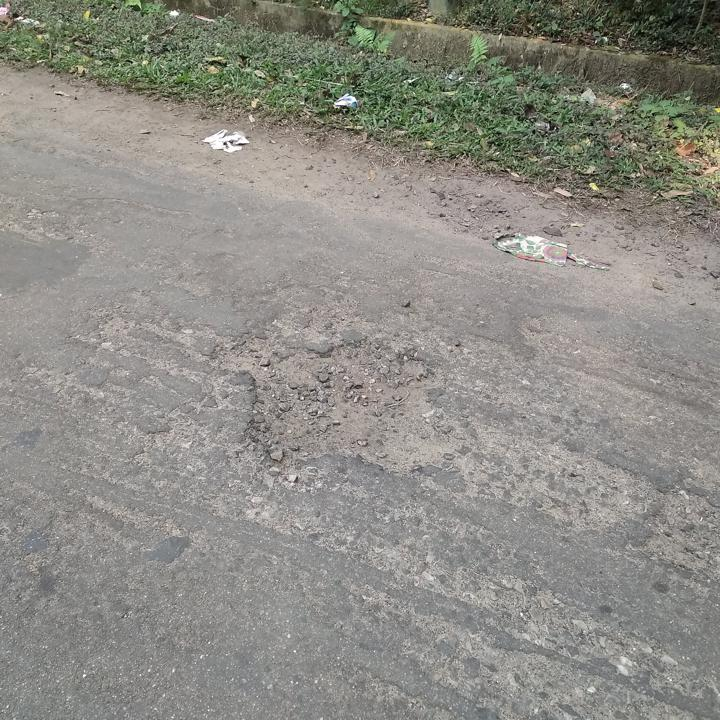pothole: (209, 333, 456, 476)
